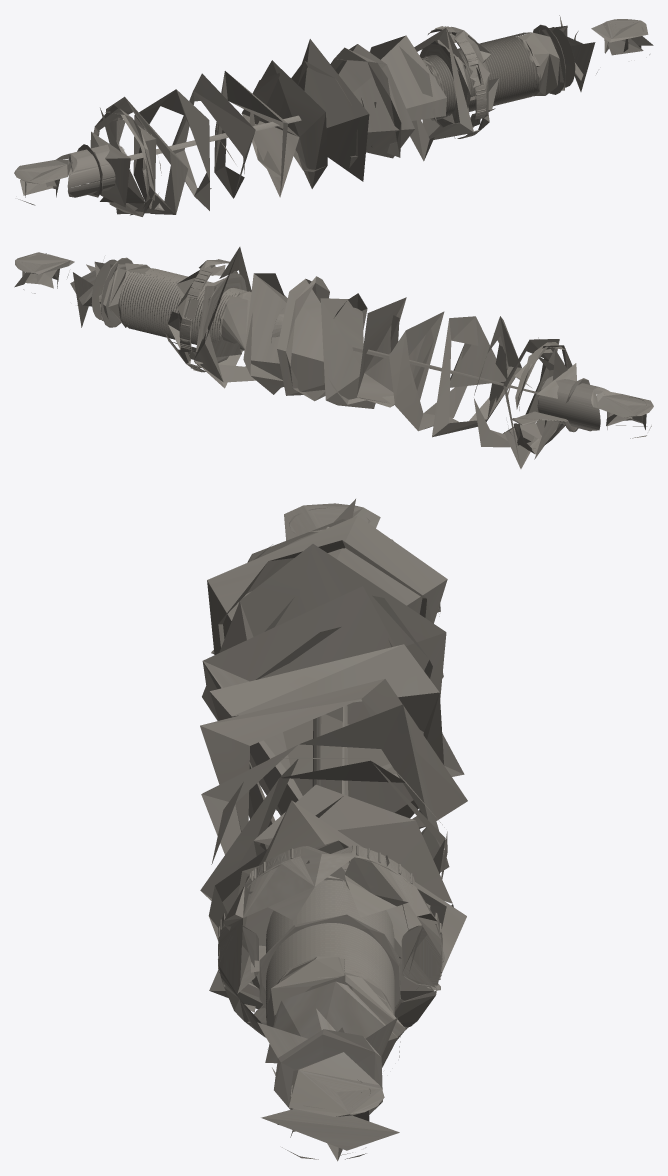
The model's file is suspension_shock_absorber_b01.glb.
The picture shows the model from 3 angles, top to bottom: view 1: azimuth 30°, elevation 25°; view 2: azimuth 150°, elevation 25°; view 3: azimuth 270°, elevation 25°; orthographic projection. The views are drawn at different scales.
Parts seen in each view (by area): view 1: geometry_0; view 2: geometry_0; view 3: geometry_0.
Boxes of the visible parts, box(x1,y1,x2,y2) form: geometry_0: box(14, 15, 653, 216); geometry_0: box(14, 247, 653, 468); geometry_0: box(200, 499, 467, 1161).
Size of the model in its own units: 0.42 by 0.0831 by 0.0775.
1 material, 1 textured.
